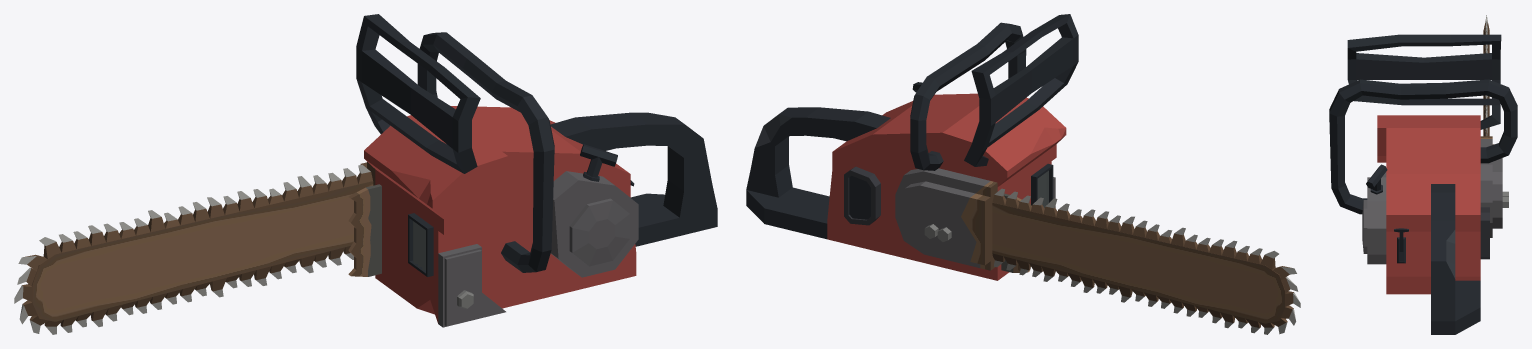
File: SM_Chainsaw.fbx
3 renders of one model, left to right at view 1: azimuth 30°, elevation 25°; view 2: azimuth 150°, elevation 25°; view 3: azimuth 270°, elevation 25°, orthographic. The views are drawn at different scales.
Visible parts, largest first — view 1: SM_Chainsaw; view 2: SM_Chainsaw; view 3: SM_Chainsaw.
Part boxes in pixels (<box>): SM_Chainsaw: <box>14,14,717,334</box>; SM_Chainsaw: <box>746,14,1300,334</box>; SM_Chainsaw: <box>1329,15,1517,334</box>.
Size of the model in its own units: 119 by 42.84 by 38.87.
